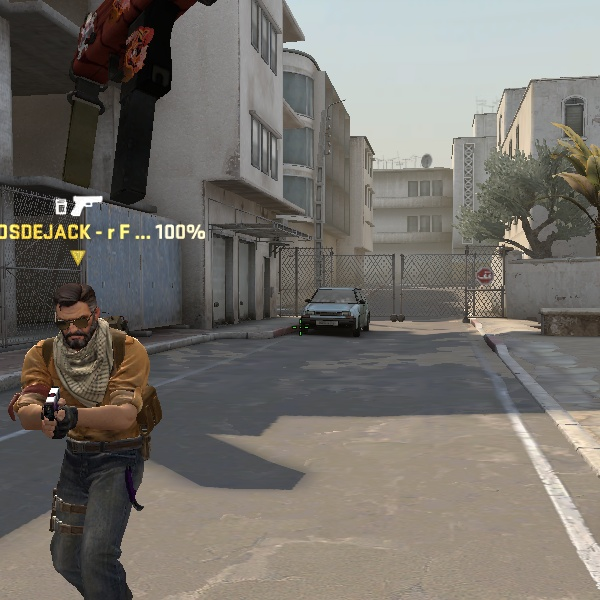t_body: (0, 286, 189, 600)
t_head: (46, 289, 114, 356)
